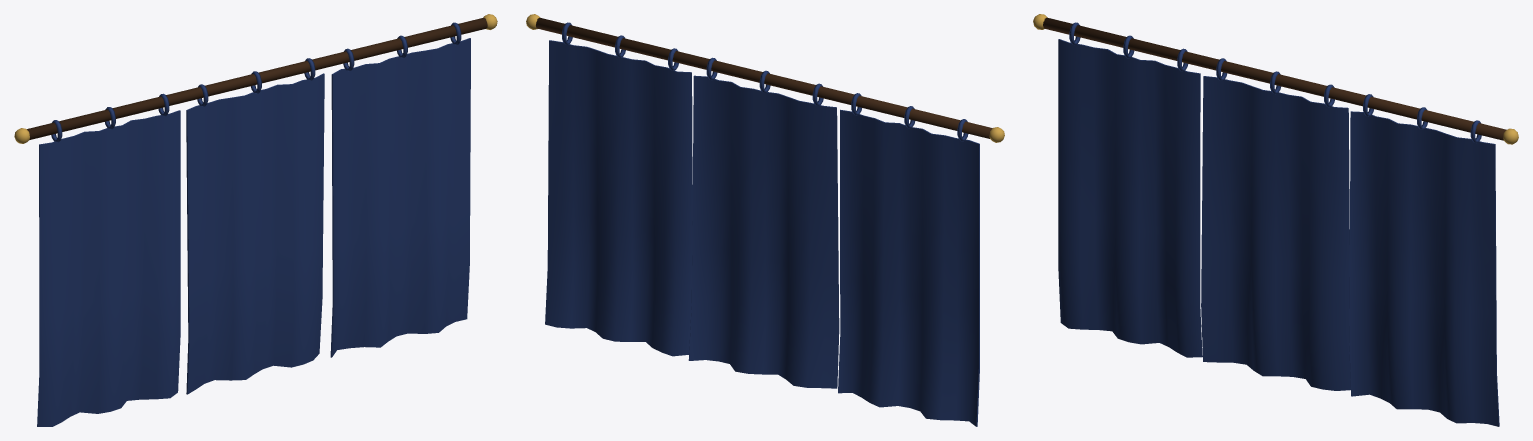
Rendered from noren.glb.
3 renders of one model, left to right at view 1: azimuth 30°, elevation 25°; view 2: azimuth 150°, elevation 25°; view 3: azimuth 330°, elevation 25°, orthographic.
Visible parts, largest first — view 1: NorenPanel0, NorenPanel2, NorenPanel1, NorenRod; view 2: NorenPanel1, NorenPanel2, NorenPanel0, NorenRod; view 3: NorenPanel1, NorenPanel2, NorenPanel0, NorenRod.
Boxes of the visible parts, left/top/right/bottom form: NorenPanel0: left=37, top=93, right=180, bottom=426; NorenPanel2: left=330, top=22, right=470, bottom=357; NorenPanel1: left=186, top=58, right=324, bottom=394; NorenRod: left=27, top=17, right=487, bottom=139; NorenPanel1: left=688, top=57, right=839, bottom=388; NorenPanel2: left=545, top=22, right=692, bottom=356; NorenPanel0: left=838, top=93, right=979, bottom=426; NorenRod: left=536, top=17, right=992, bottom=138; NorenPanel1: left=1201, top=58, right=1350, bottom=390; NorenPanel2: left=1349, top=94, right=1499, bottom=426; NorenPanel0: left=1058, top=22, right=1202, bottom=357; NorenRod: left=1043, top=17, right=1506, bottom=140.
Bounding box in the file's own units: 1.15 × 0.698 × 0.0485.
